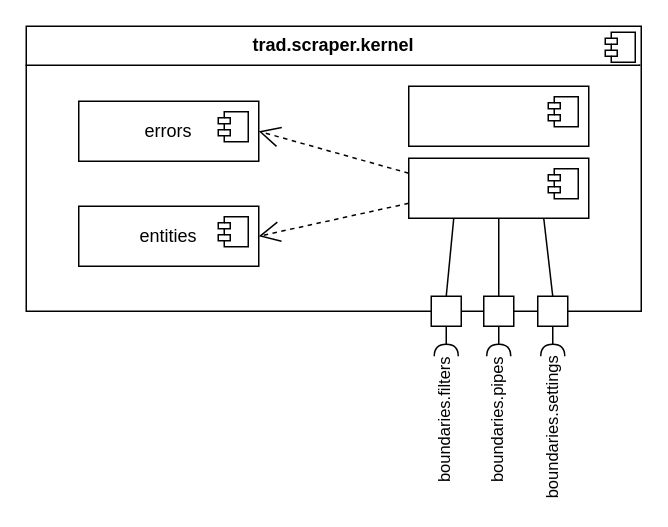
This 668x527 diagram has some shape labels left out. The box of each missing label's shape, as (x1, y1, x2, y2) in pixels:
di: (407, 85, 589, 146)
usecases: (407, 157, 589, 218)
